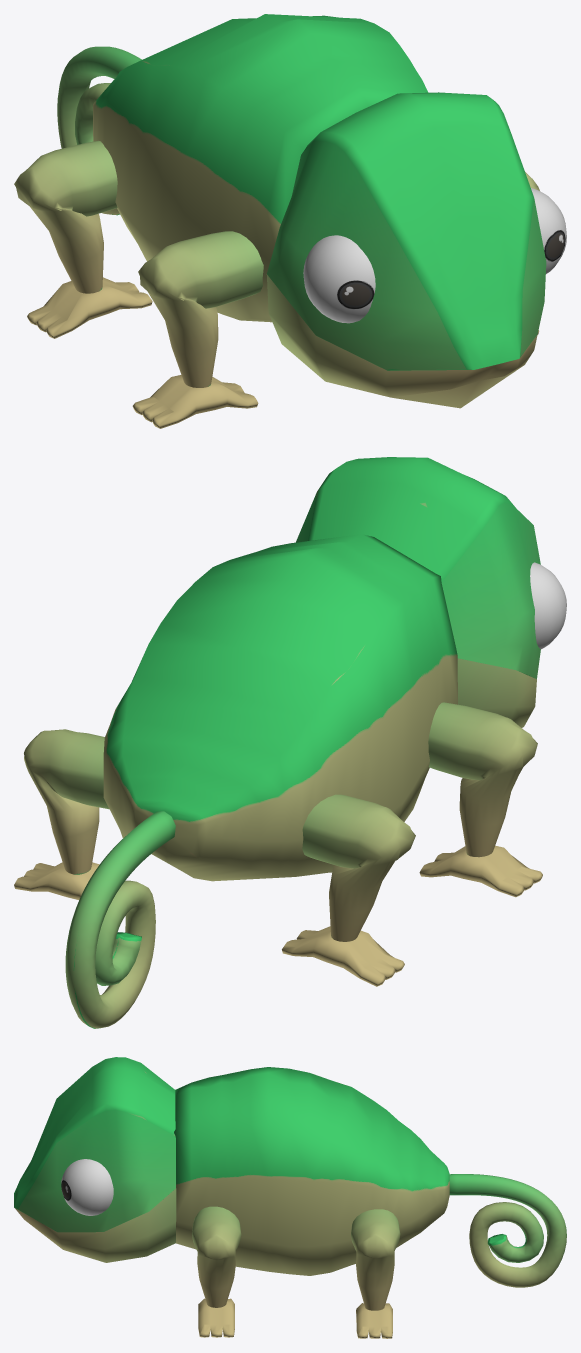
Rendered from chameleon.fbx.
3 views of the same model, one above another, from view 1: azimuth 30°, elevation 25°; view 2: azimuth 150°, elevation 25°; view 3: azimuth 270°, elevation 25° (orthographic). The views are drawn at different scales.
Visible parts, largest first — view 1: face; view 2: face; view 3: face.
Part boxes in pixels (bbox=[...]): face: bbox=[14, 14, 566, 428]; face: bbox=[14, 457, 566, 1028]; face: bbox=[14, 1057, 566, 1338].
Size of the model in its own units: 164 by 137 by 312.
